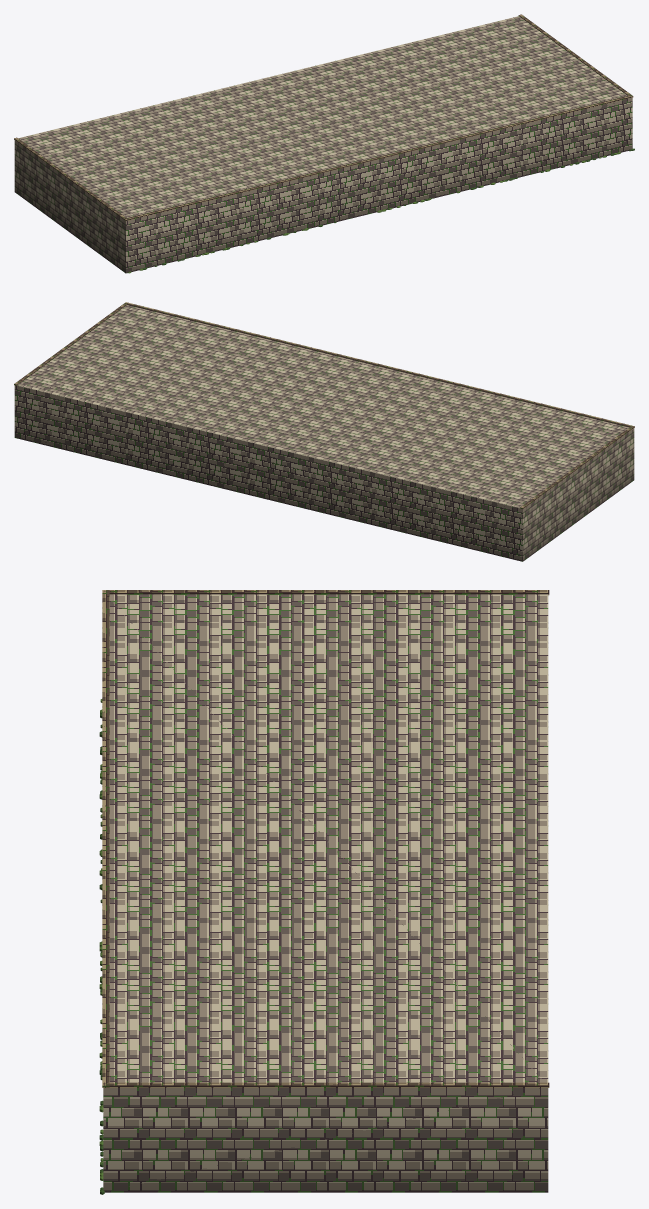
Rendered from scene_wall_n.glb.
3 views of the same model, one above another, from view 1: azimuth 30°, elevation 25°; view 2: azimuth 150°, elevation 25°; view 3: azimuth 270°, elevation 25° (orthographic). The views are drawn at different scales.
Parts seen in each view (by area): view 1: scene_wall_n; view 2: scene_wall_n; view 3: scene_wall_n.
Boxes of the visible parts, x1,y1,x2,y2 form: scene_wall_n: (14, 14, 634, 273); scene_wall_n: (14, 302, 634, 561); scene_wall_n: (99, 590, 549, 1194).
Bounding box in the file's own units: 60.28 × 6.17 × 23.04.
2 materials, 1 textured.
